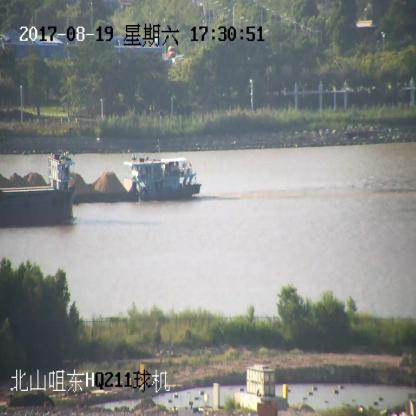Bulk Carrier: (0, 153, 77, 227)
